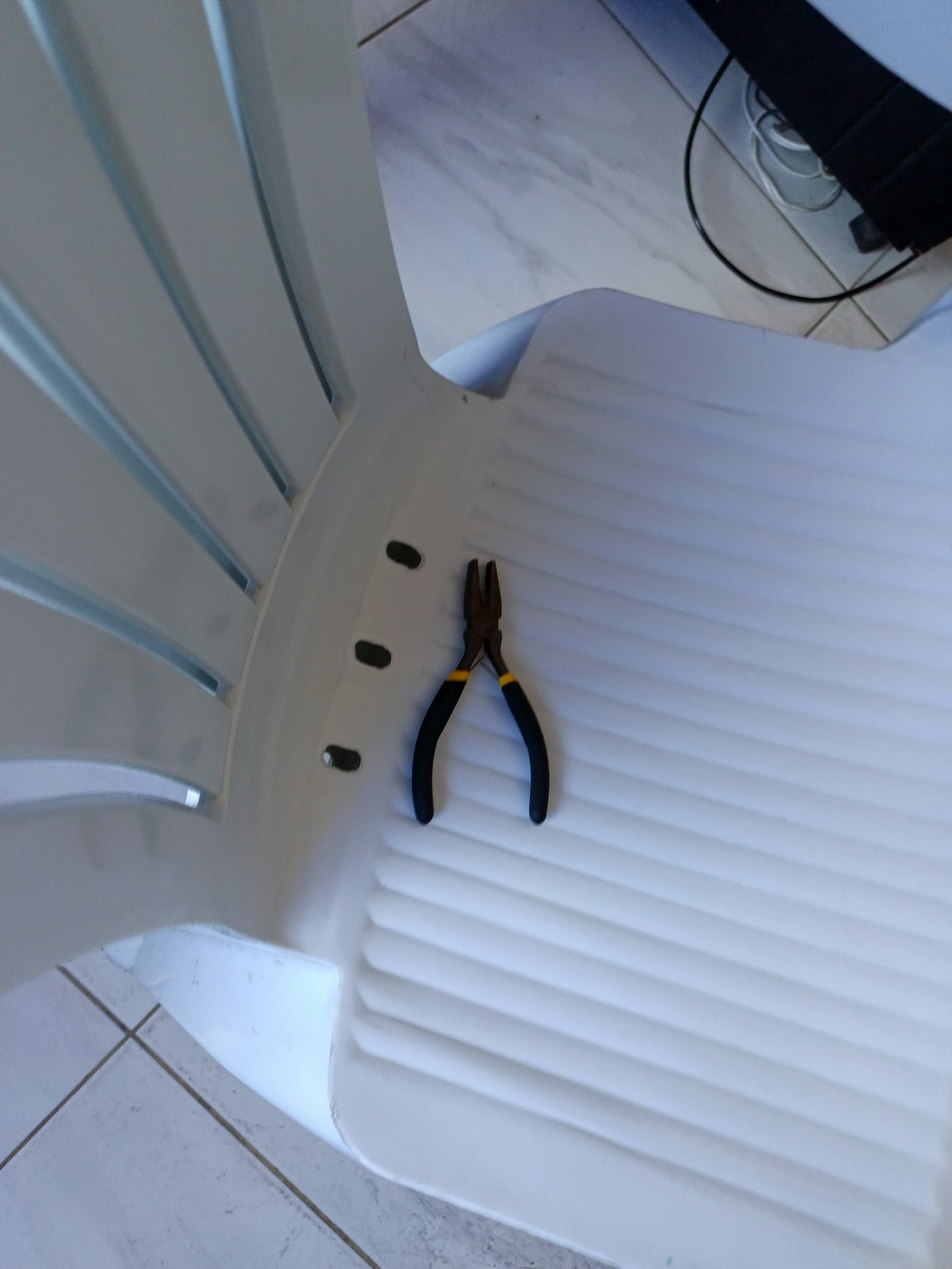Pinzas: (412, 559, 549, 823)
